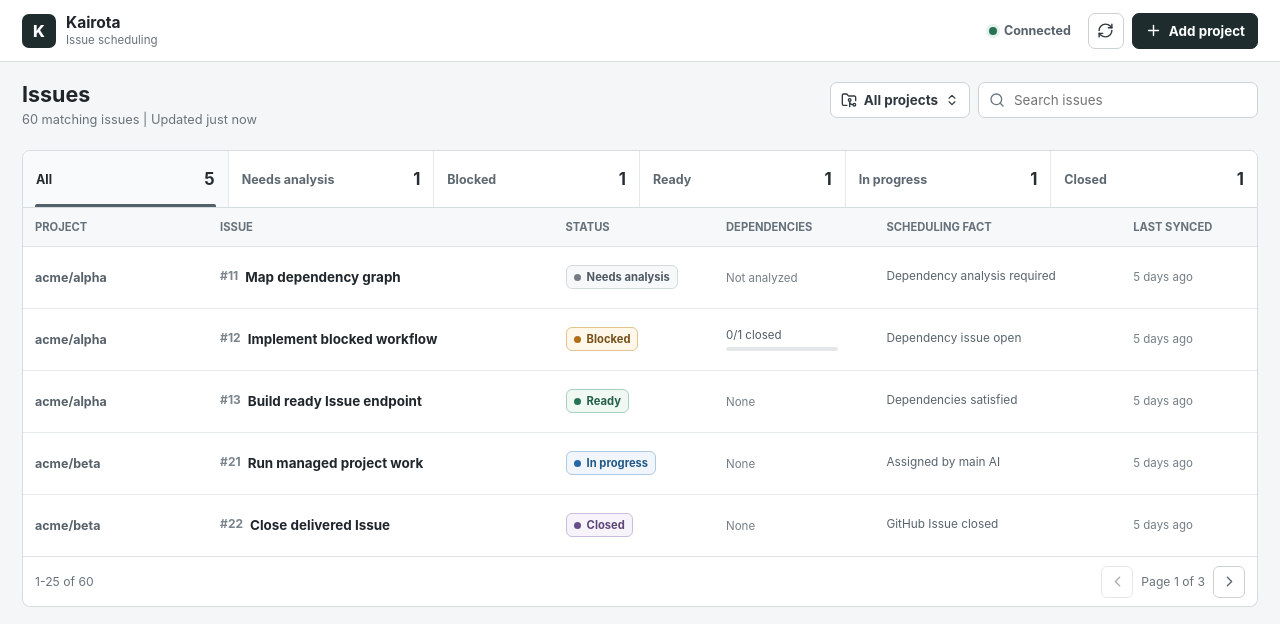
Test: Issue scheduling board › requests and renders subsequent pages
The image size is (1280, 624).
Check: the text "Page 1 of 3" is shown, box [1141,574,1205,589]
Click the button named "Next page".
click(1229, 582)  # box [1213,566,1245,598]
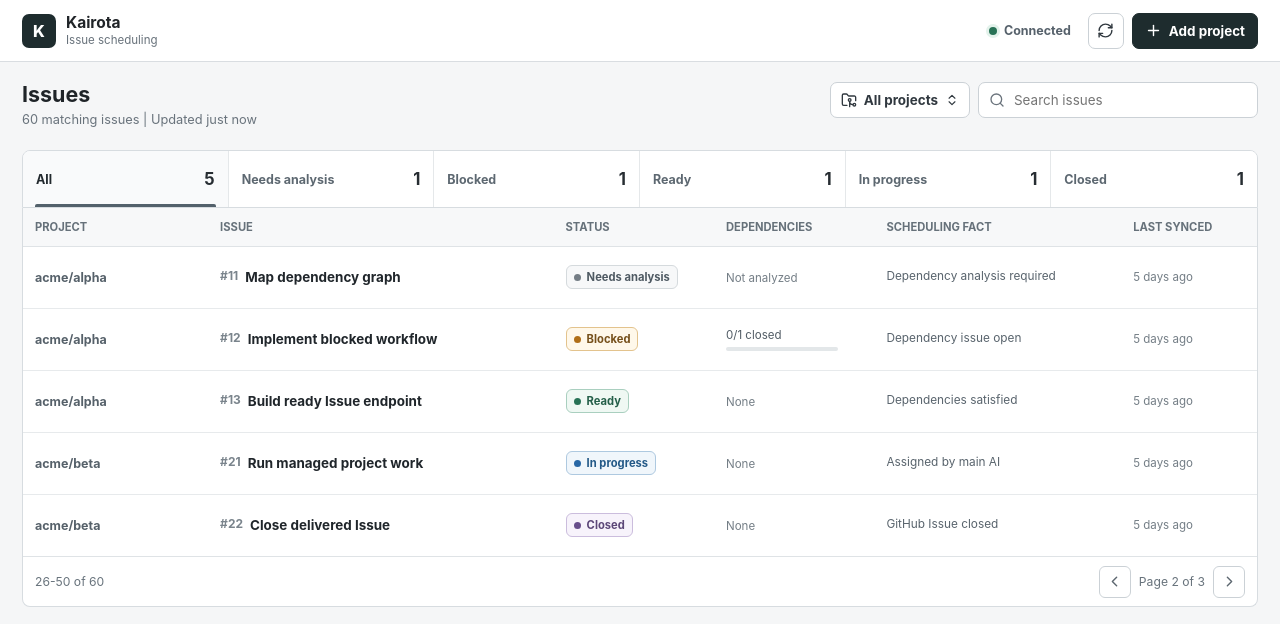
Check: the text "Page 2 of 3" is shown, box [1139,574,1205,589]
Check: the text "26-50 of 60" is shown, box [35,574,104,589]
